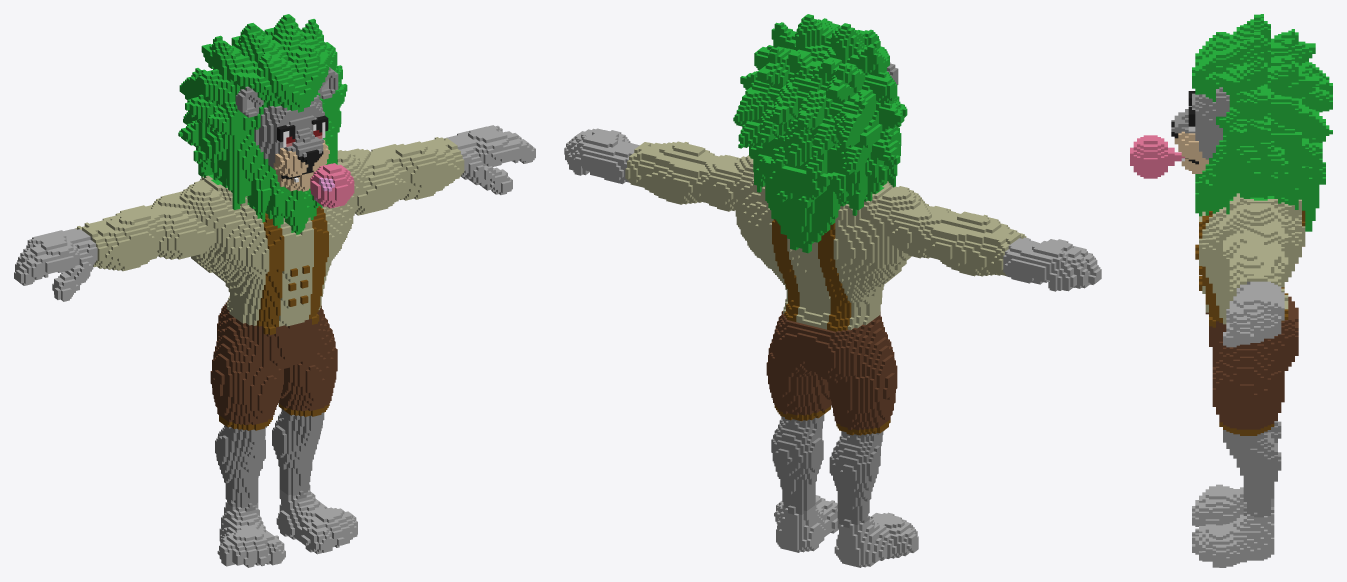
3 renders of one model, left to right at view 1: azimuth 30°, elevation 25°; view 2: azimuth 150°, elevation 25°; view 3: azimuth 270°, elevation 25°, orthographic. The views are drawn at different scales.
Parts seen in each view (by area): view 1: bubble_gum; view 2: bubble_gum; view 3: bubble_gum.
Boxes of the visible parts, box(x1,y1,x2,y2) form: bubble_gum: box(14, 14, 535, 567); bubble_gum: box(564, 14, 1101, 567); bubble_gum: box(1130, 14, 1332, 567).
Size of the model in its own units: 17.2 by 16.5 by 5.9.
Materials: 5 (5 with a texture image).
